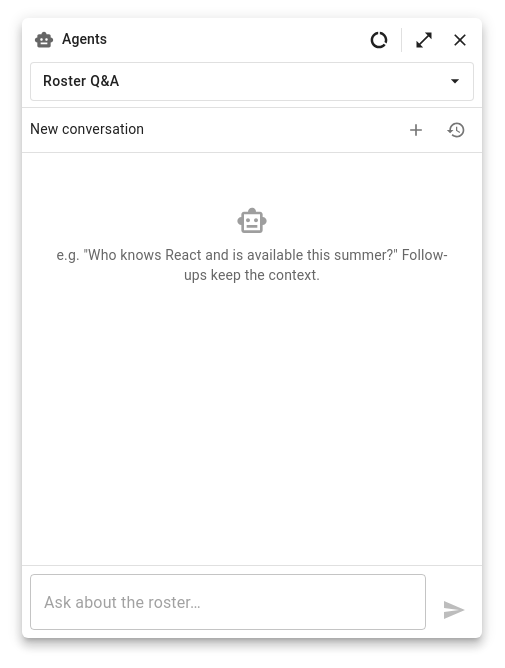
error containment is per pane (P1T-153, EXP-30) › shows the fallback in the crashing pane only, and the others keep their state
Type "Who knows React?" into the text box with placeholder "Ask about the roster…" at (228, 602), box [44, 590, 412, 614]
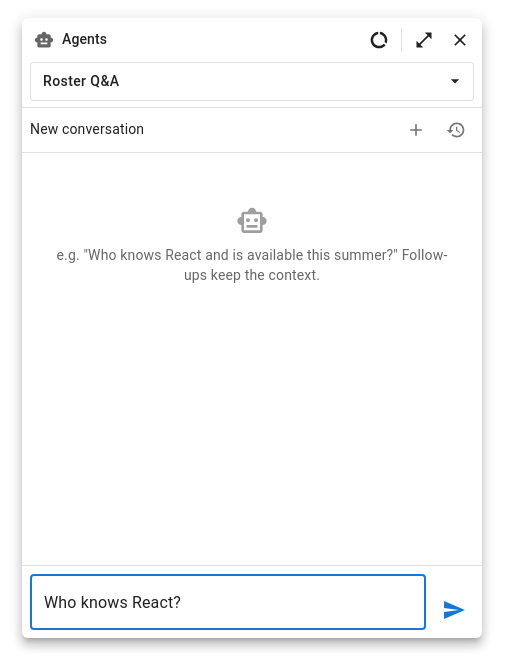
Click the button named "Send" at (454, 610), box [434, 590, 474, 630]
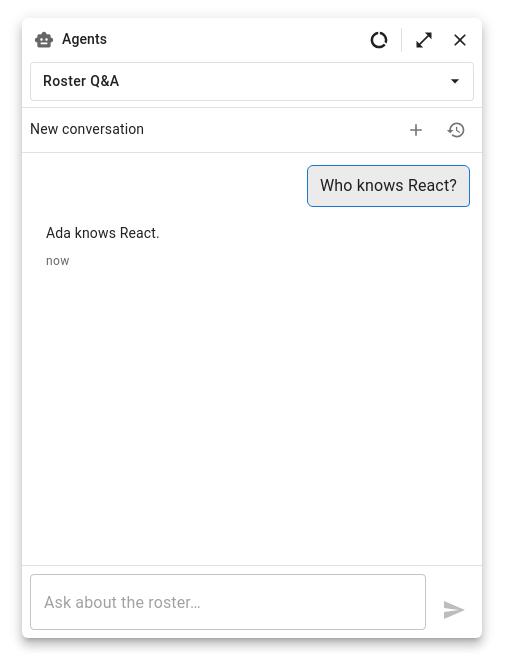
Expected: the text "Ada knows React." is shown, [46, 222, 160, 244]
Click the button named "Token usage" at (379, 40), box [361, 22, 397, 58]
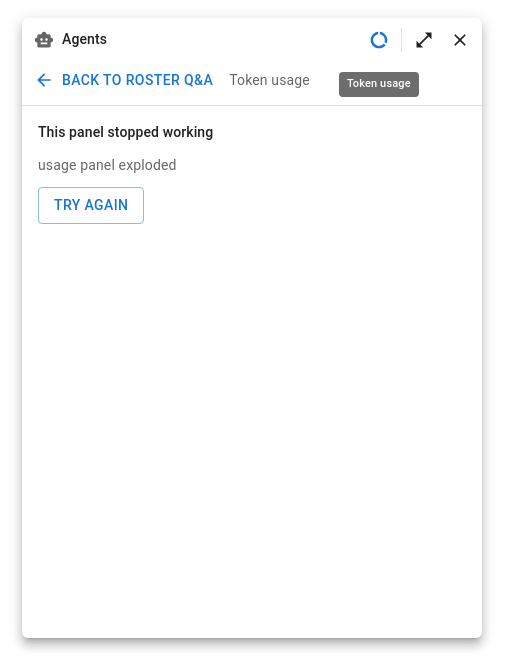
Expected: the message shows "This panel stopped working", [38, 124, 213, 140]
Expected: the message shows "usage panel exploded", [38, 158, 177, 174]
Expected: the button "Back to Roster Q&A" is shown
Click the button "Back to Roster Q&A" at (126, 80), box [30, 62, 221, 98]
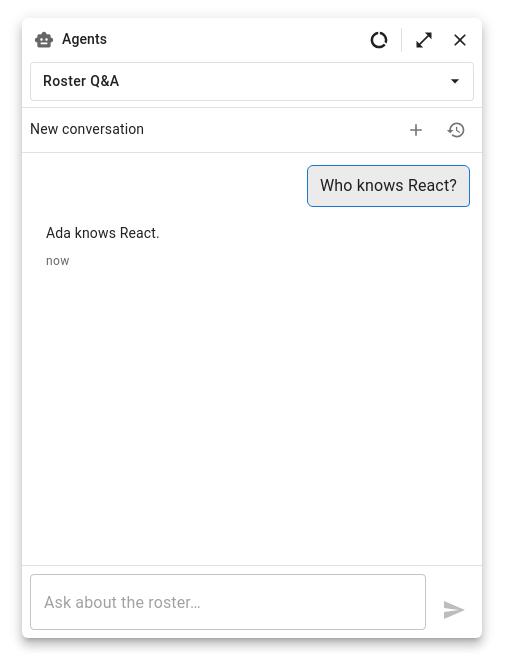
Expected: the message "This panel stopped working usage panel exploded Try again" is gone
Expected: the text "Ada knows React." is shown, [46, 222, 160, 244]
Click the button named "Token usage" at (379, 40), box [361, 22, 397, 58]
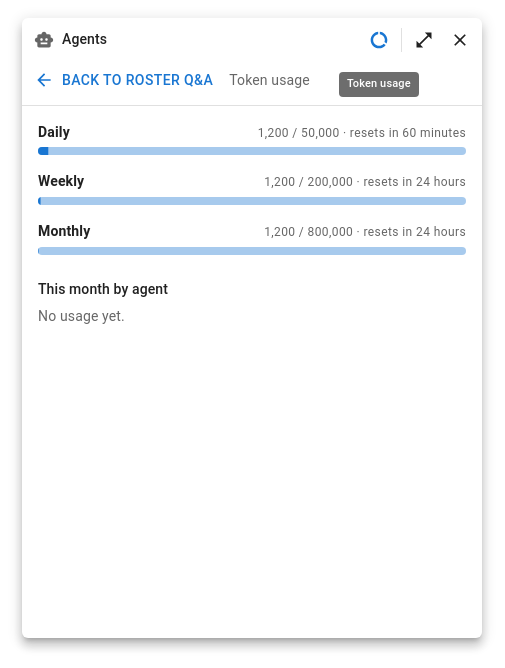
Expected: the message "This panel stopped working usage panel exploded Try again" is not shown
Expected: the heading "This month by agent" is shown, [38, 281, 168, 297]
